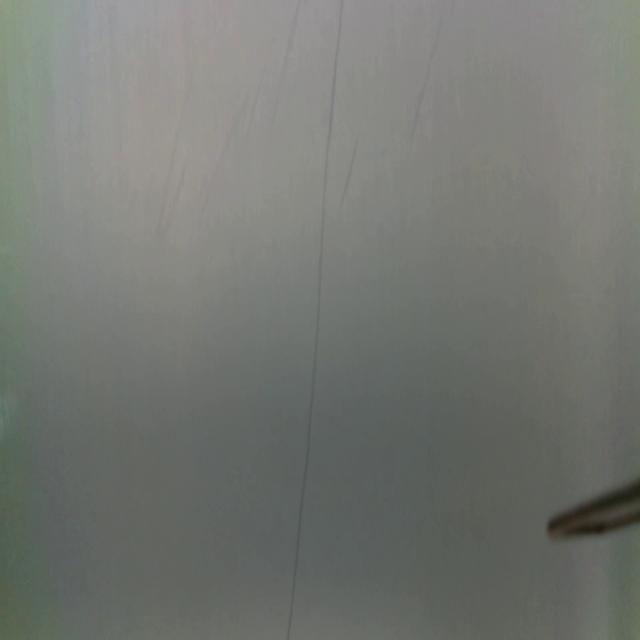crease: (285, 1, 345, 640), (155, 90, 193, 253), (200, 102, 248, 224), (404, 19, 446, 155), (273, 0, 304, 120), (337, 137, 358, 220), (246, 68, 268, 146)
